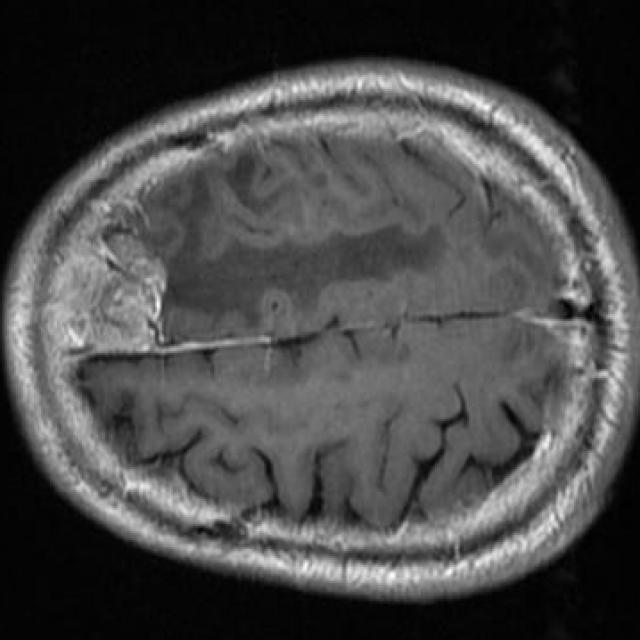meningioma: (62, 235, 168, 351)
